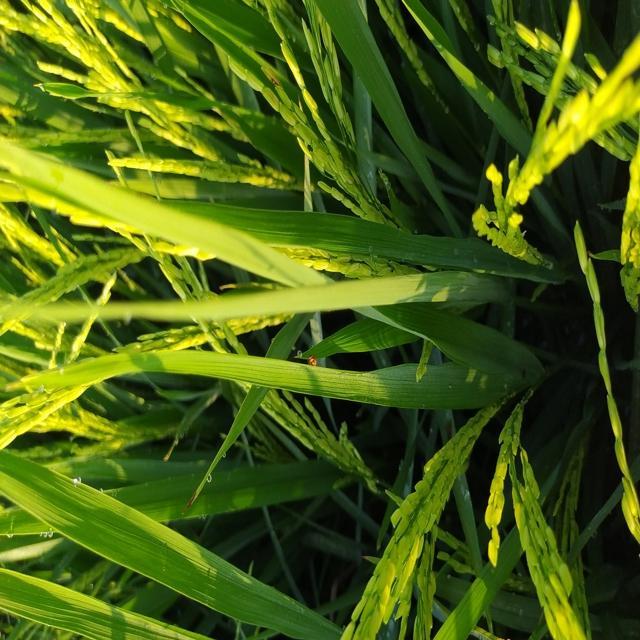Brown spot: (182, 494, 206, 519), (263, 71, 286, 94)
